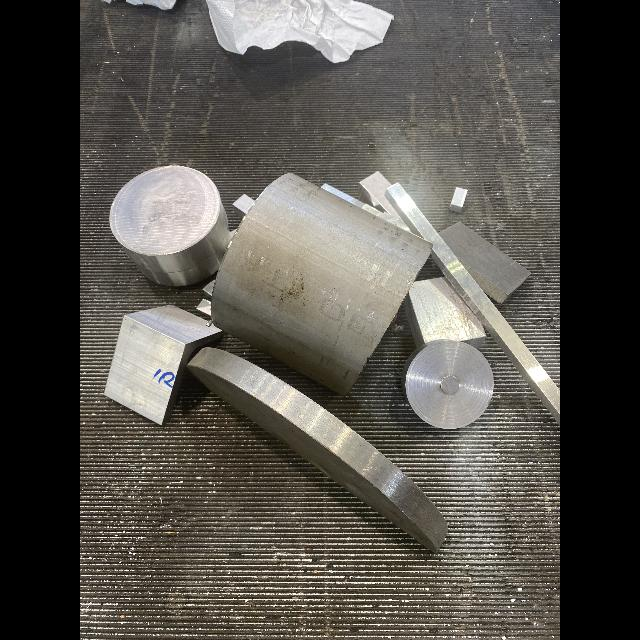Aluminium: (384, 182, 560, 426), (105, 305, 222, 425), (439, 222, 530, 303), (403, 277, 486, 348), (321, 184, 412, 233), (359, 171, 404, 222), (233, 194, 255, 214), (450, 187, 467, 212), (197, 298, 211, 316), (203, 280, 215, 296)
Stainless Steel: (187, 347, 447, 551), (212, 173, 432, 395), (110, 166, 230, 287), (402, 340, 493, 429)
